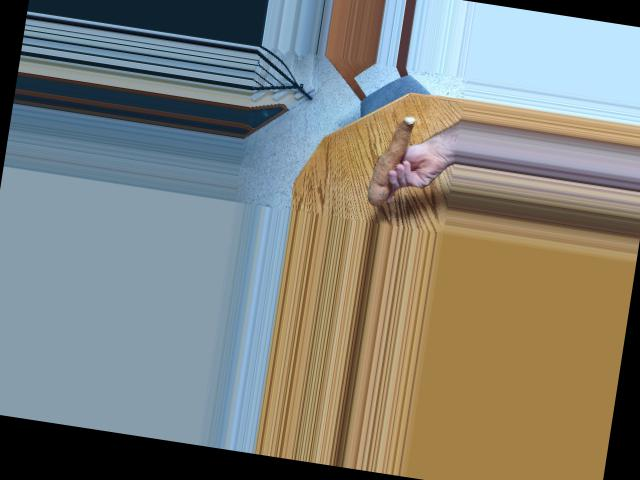sweet_potato: (361, 109, 418, 206)
